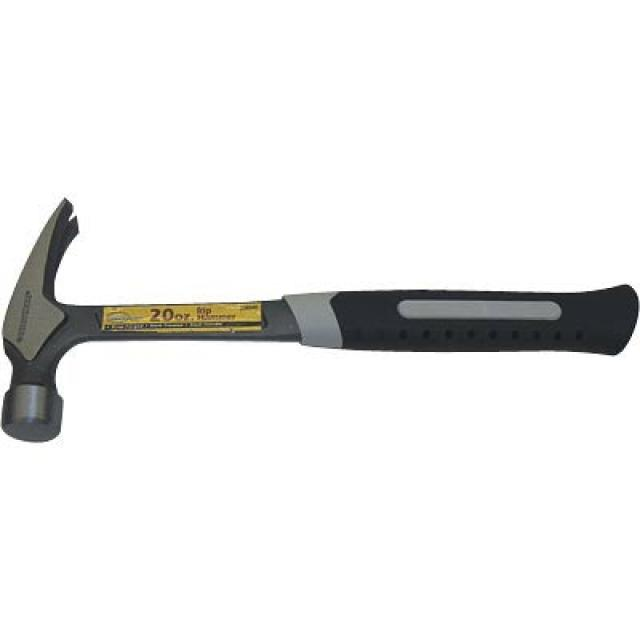hammer: (0, 175, 640, 501)
